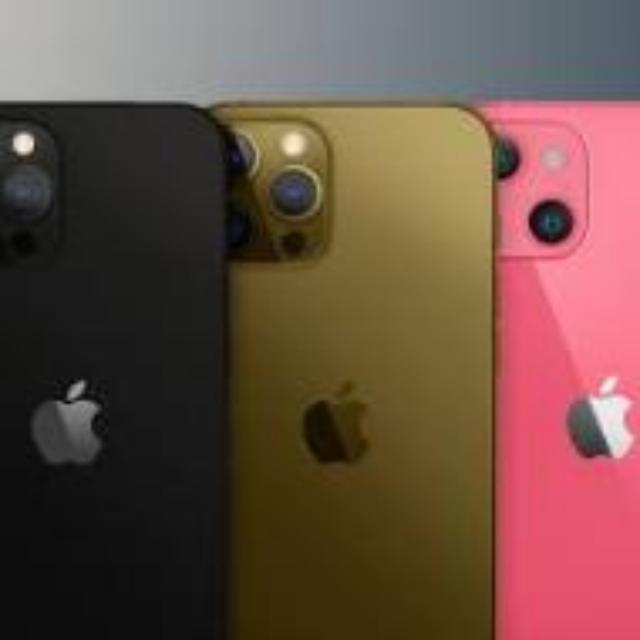phone: (4, 95, 234, 640), (486, 114, 640, 640)
